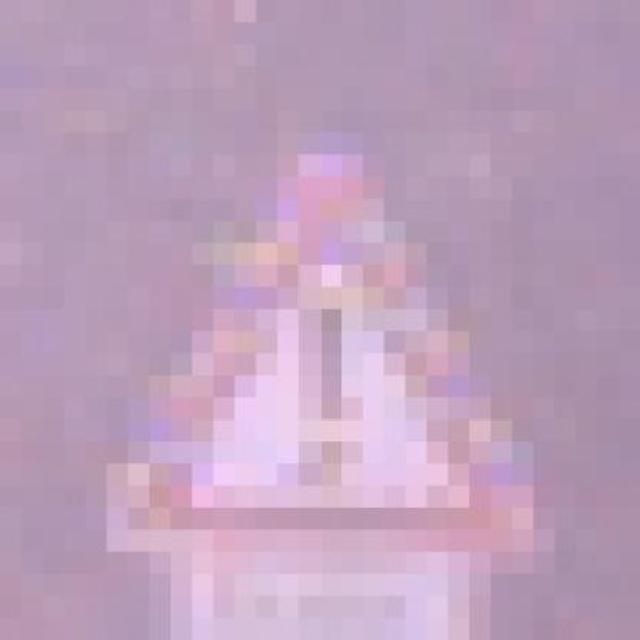Attention Please-: (63, 132, 554, 596)
